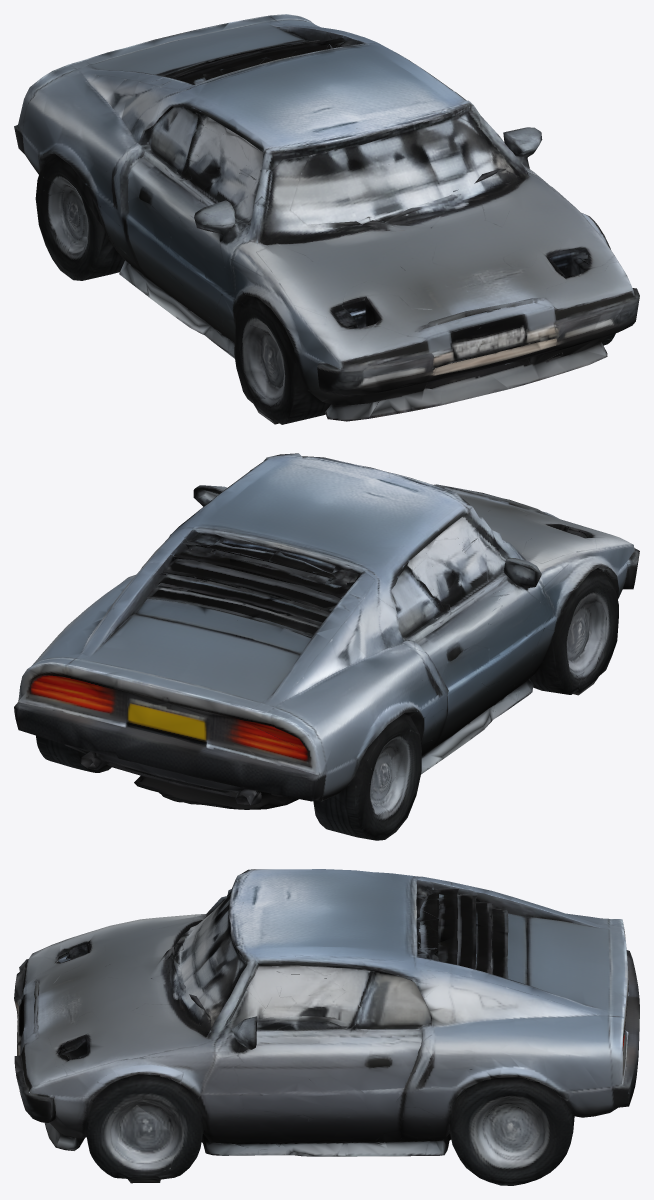
The model's file is coupe.glb.
The picture shows the model from 3 angles, top to bottom: view 1: azimuth 30°, elevation 25°; view 2: azimuth 150°, elevation 25°; view 3: azimuth 270°, elevation 25°; orthographic projection. The views are drawn at different scales.
Bounding box in the file's own units: 0.5963 × 0.3642 × 1.
Materials: 1 (1 with a texture image).
